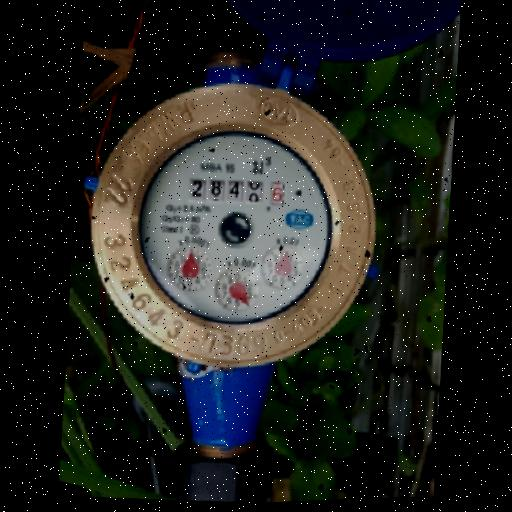2: (190, 179, 206, 201)
4: (229, 180, 243, 203)
6: (270, 181, 285, 205)
8: (209, 180, 225, 202), (248, 181, 264, 203)
border_water_meter_number: (187, 173, 287, 210)
